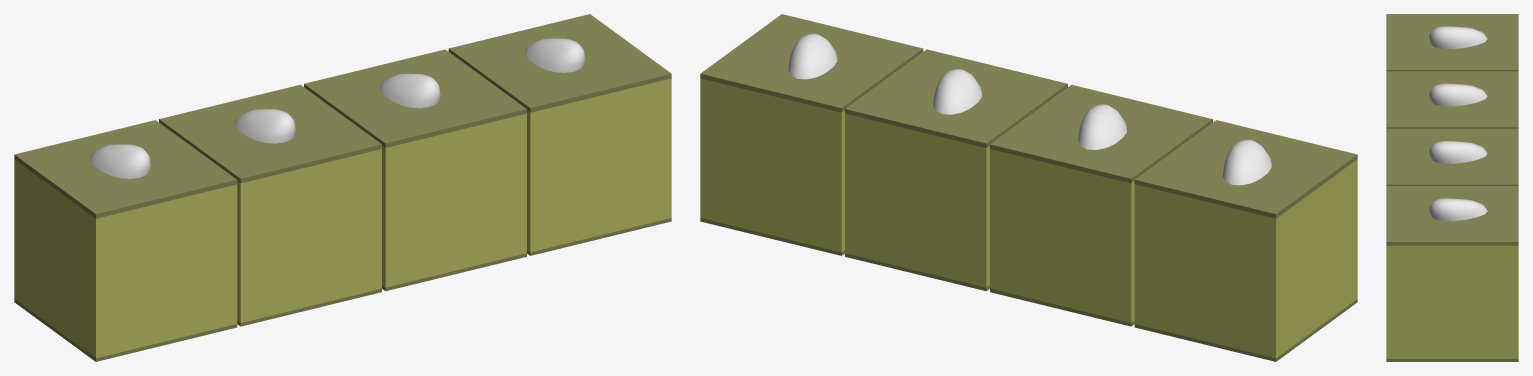
The model's file is cake_ygreen_4.fbx.
3 views of the same model, side by side, from view 1: azimuth 30°, elevation 25°; view 2: azimuth 150°, elevation 25°; view 3: azimuth 270°, elevation 25° (orthographic). The views are drawn at different scales.
Visible parts, largest first — view 1: 立方体.030; view 2: 立方体.030; view 3: 立方体.030.
Boxes of the visible parts, x1,y1,x2,y2 form: 立方体.030: [14, 14, 671, 361]; 立方体.030: [700, 14, 1357, 361]; 立方体.030: [1386, 14, 1518, 361].
Bounding box in the file's own units: 59.49 × 16.6 × 14.6.
